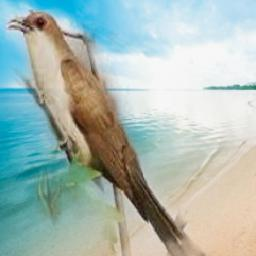Cuckoo: (6, 11, 216, 256)
